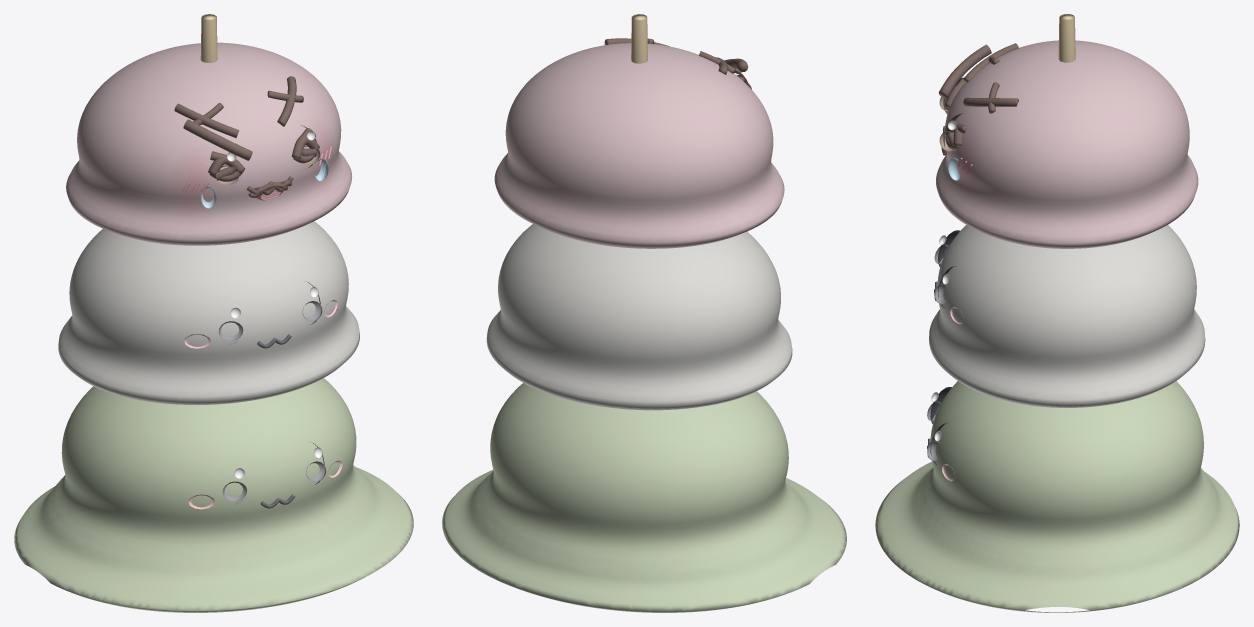
Rendered from f_dango_slime.glb.
The picture shows the model from 3 angles, left to right: view 1: azimuth 30°, elevation 25°; view 2: azimuth 150°, elevation 25°; view 3: azimuth 270°, elevation 25°; orthographic projection.
Visible parts, largest first — view 1: BodyMesh, face_brows_angry, face_brow_smug, face_eyes_happy; view 2: BodyMesh; view 3: BodyMesh, face_brows_angry, face_brow_smug.
Part boxes in pixels (<box>): BodyMesh: <box>14,14,413,612</box>; face_brows_angry: <box>174,76,296,137</box>; face_brow_smug: <box>183,119,252,160</box>; face_eyes_happy: <box>208,136,319,175</box>; BodyMesh: <box>442,14,846,612</box>; BodyMesh: <box>875,14,1239,612</box>; face_brows_angry: <box>963,43,1018,106</box>; face_brow_smug: <box>938,44,991,98</box>.
Bounding box in the file's own units: 1.79 × 2.55 × 1.62.
